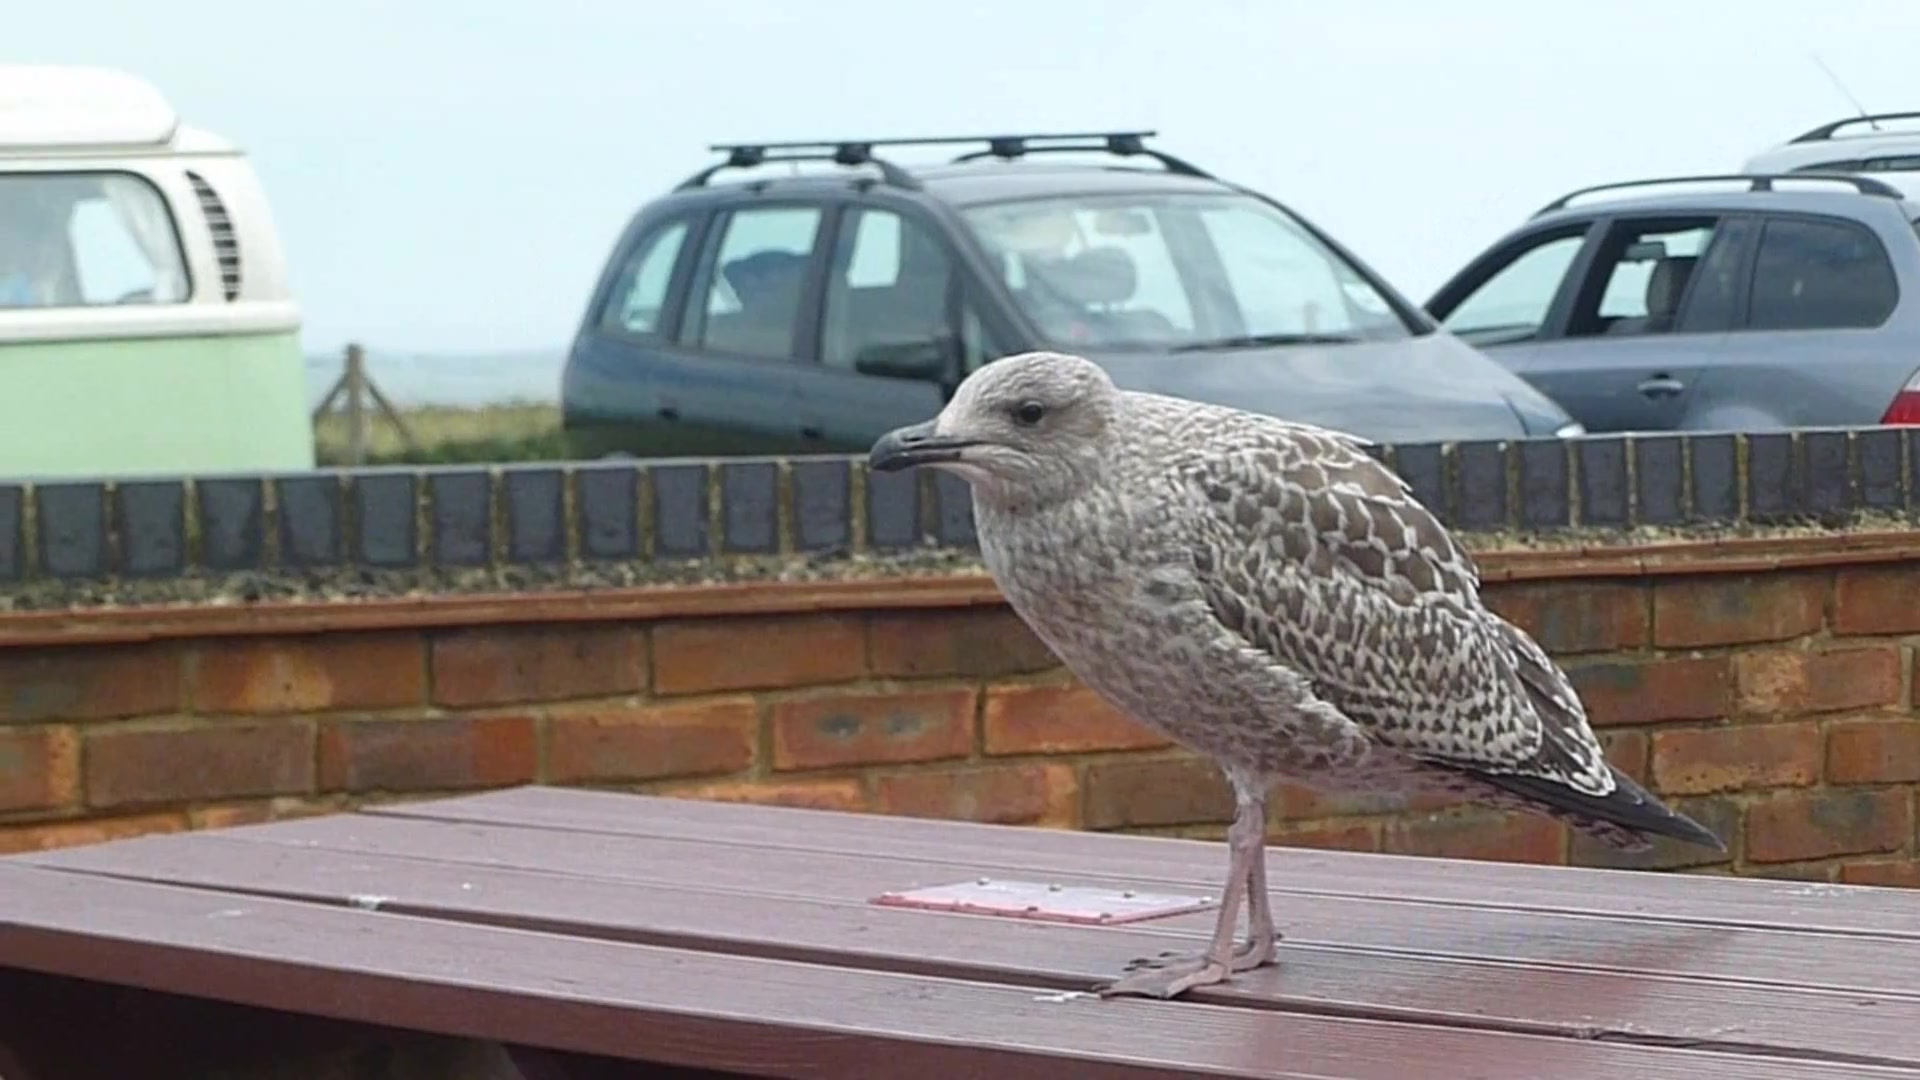bird: (866, 351, 1727, 1002)
